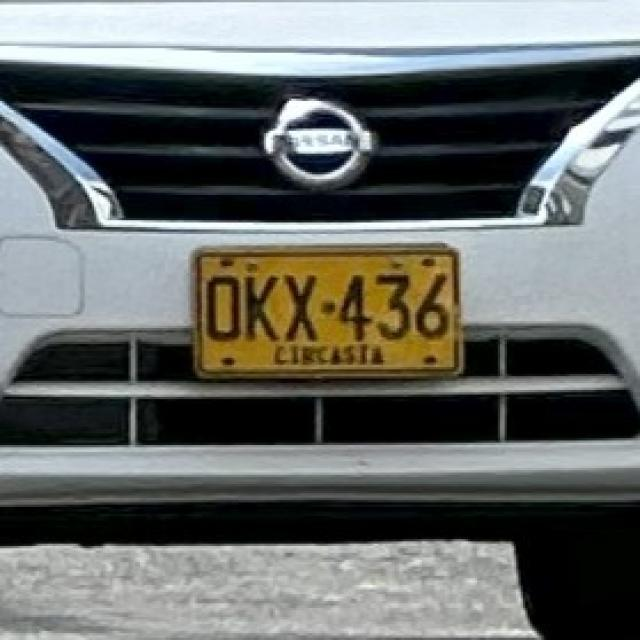number plate: (193, 245, 456, 374)
